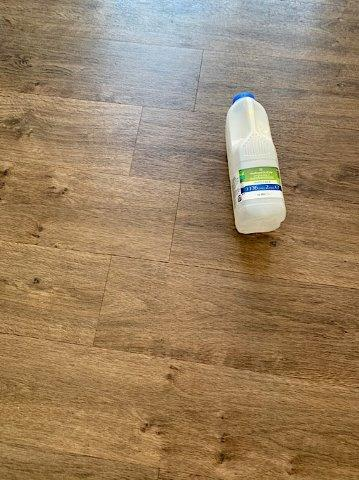botolplastik: (228, 93, 287, 232)
